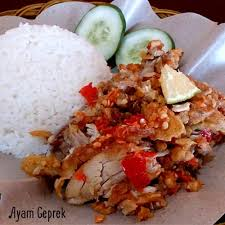ayam_geprek: (28, 43, 225, 216)
